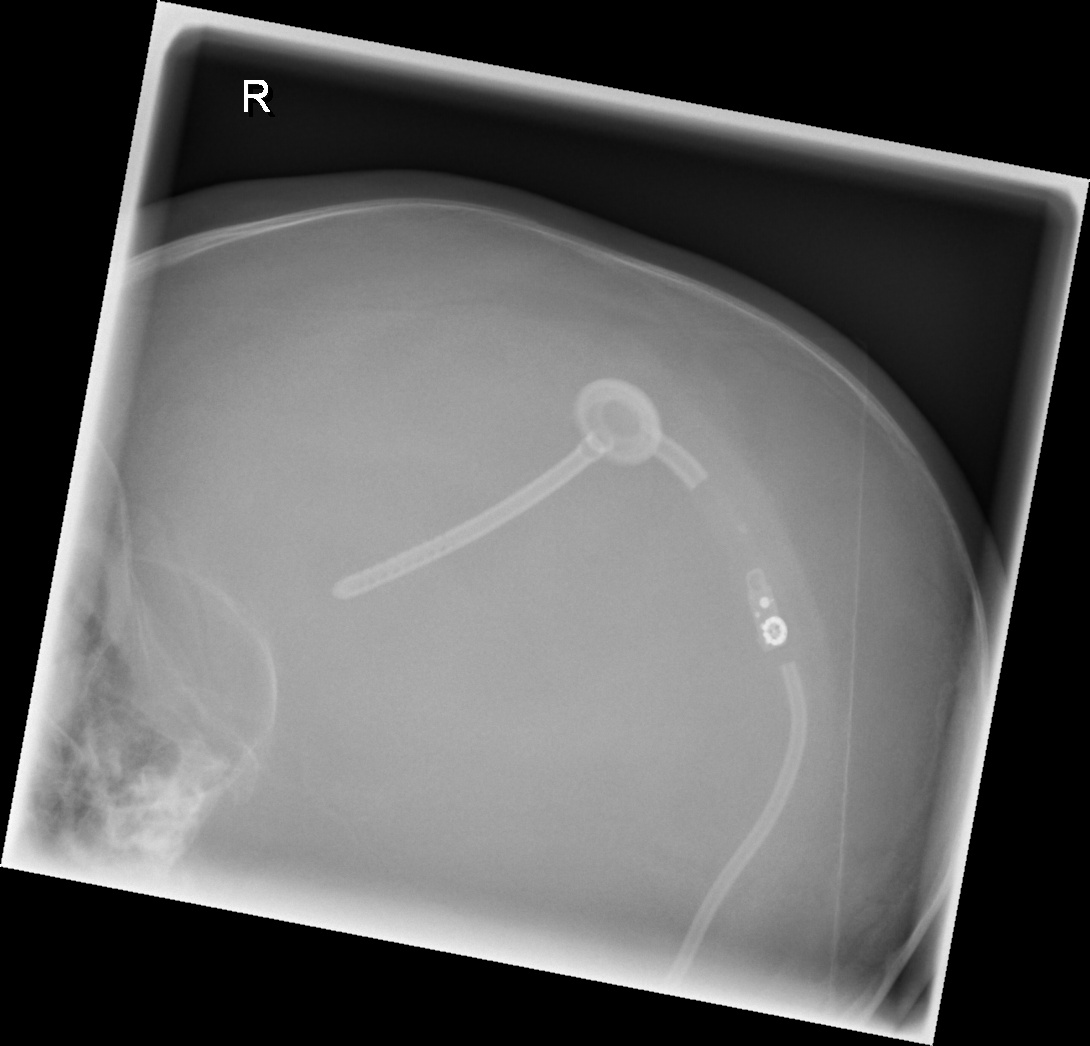Codman Hakim: (737, 578, 796, 661)
